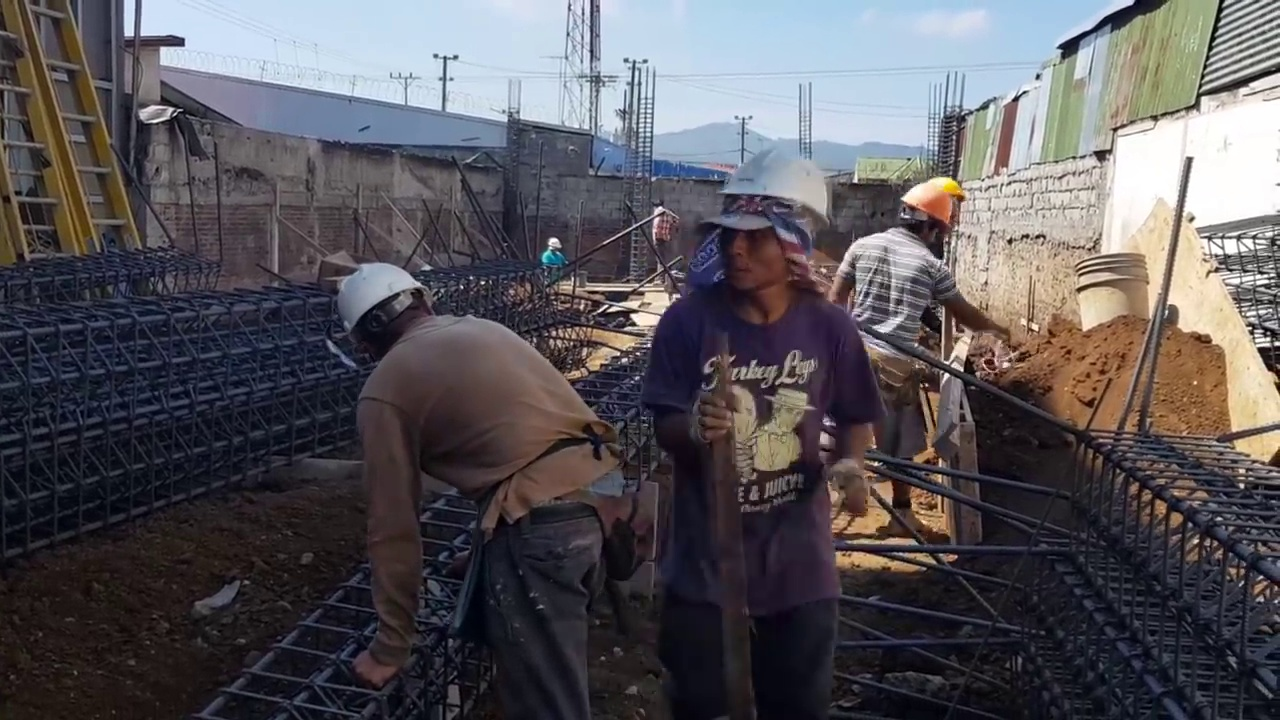helmet: (705, 140, 831, 238), (335, 266, 422, 349), (900, 185, 952, 225), (924, 176, 968, 202), (546, 237, 563, 250)
helmet-off: (650, 194, 665, 211)
helmet-on: (702, 138, 831, 315), (337, 259, 440, 367), (894, 186, 951, 246), (545, 235, 564, 256)
person: (629, 133, 895, 705), (336, 256, 623, 719), (834, 174, 1021, 535), (650, 197, 678, 286), (540, 237, 569, 280)
